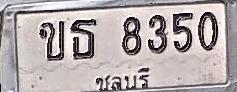0: (197, 11, 218, 51)
3: (147, 14, 167, 53)
5: (172, 12, 193, 52)
8: (121, 16, 141, 55)
A02: (38, 20, 64, 60)
A24: (70, 18, 98, 60)
CBI: (89, 66, 154, 92)
